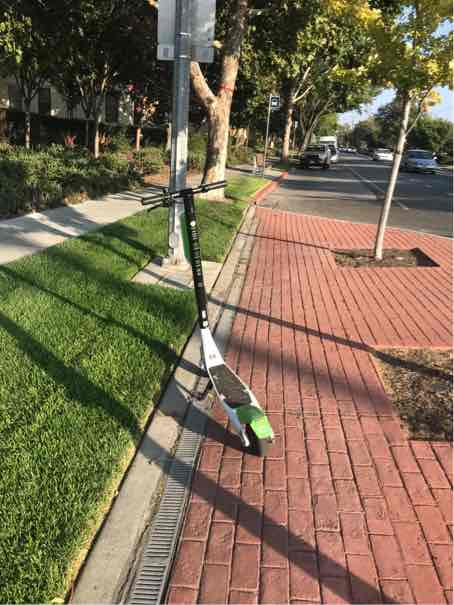scooter: (127, 171, 286, 467)
